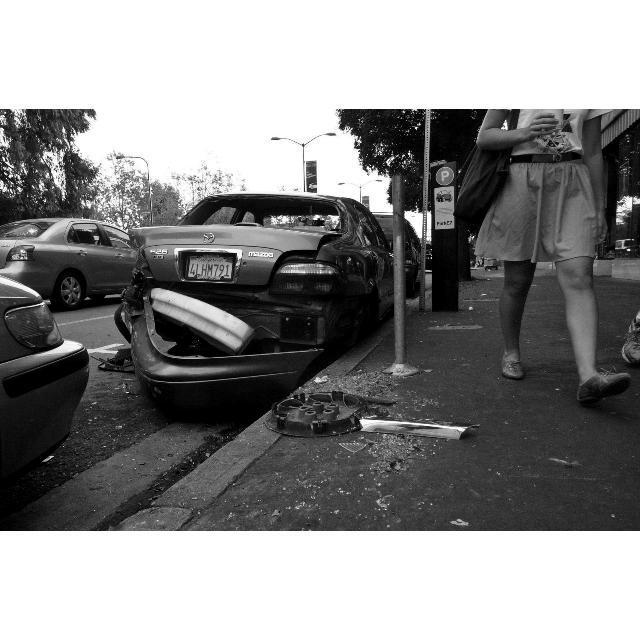rear-bumper-dent: (113, 278, 349, 366)
